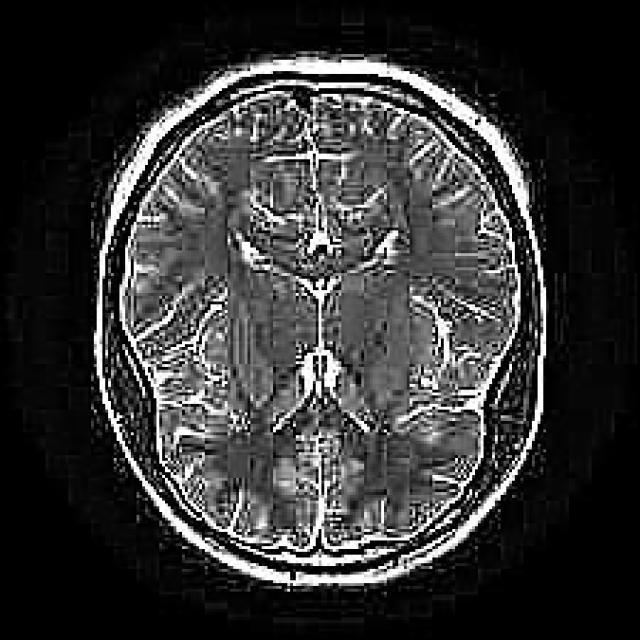notumor: (94, 57, 543, 589)
